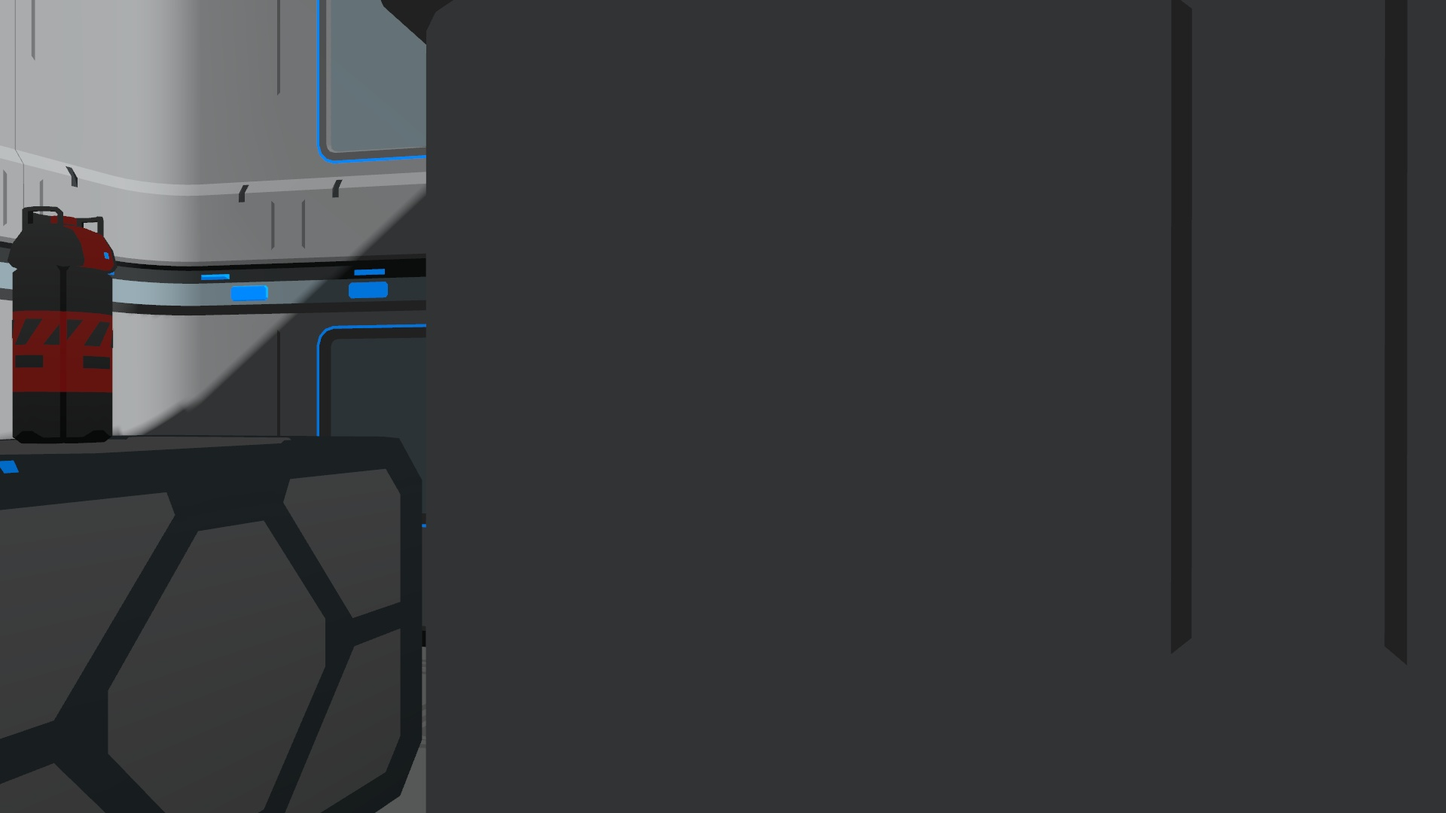red_barrel: (0, 204, 119, 450)
